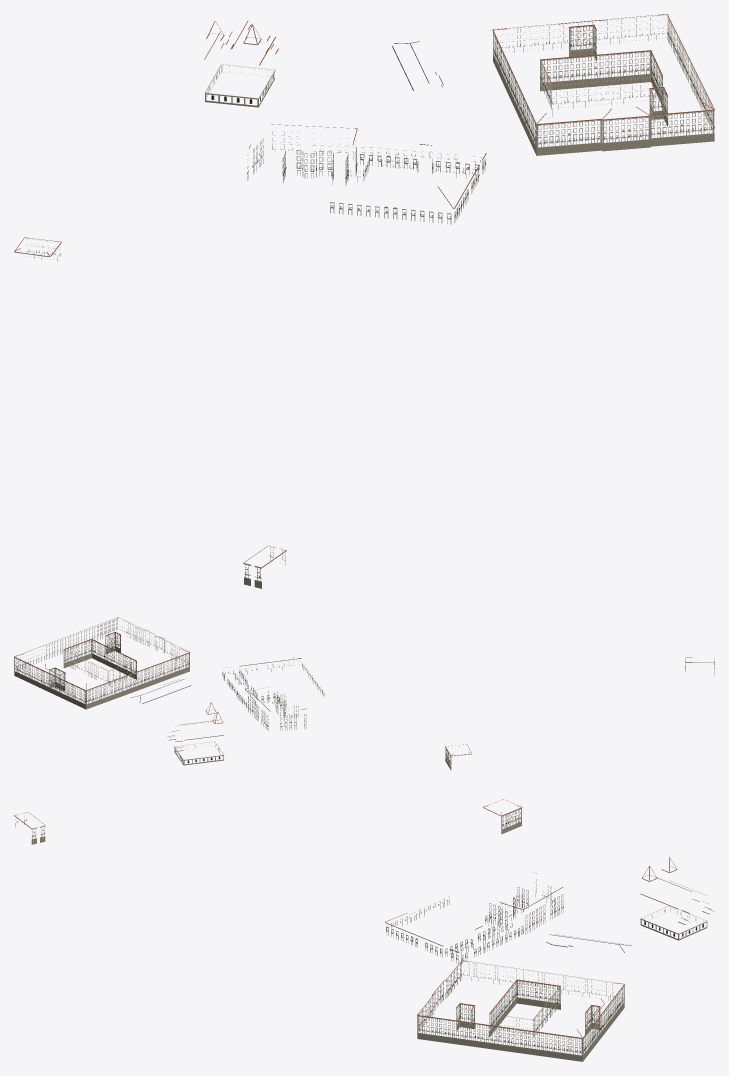
3 renders of one model, top to bottom at view 1: azimuth 30°, elevation 25°; view 2: azimuth 150°, elevation 25°; view 3: azimuth 270°, elevation 25°, orthographic. The views are drawn at different scales.
Parts seen in each view (by area): view 1: detail; view 2: detail; view 3: detail.
Part boxes in pixels (left/top/right/bottom): detail: left=14, top=14, right=714, bottom=588; detail: left=14, top=617, right=714, bottom=770; detail: left=14, top=799, right=714, bottom=1061.
Bounding box in the file's own units: 412 × 77.25 × 419.
